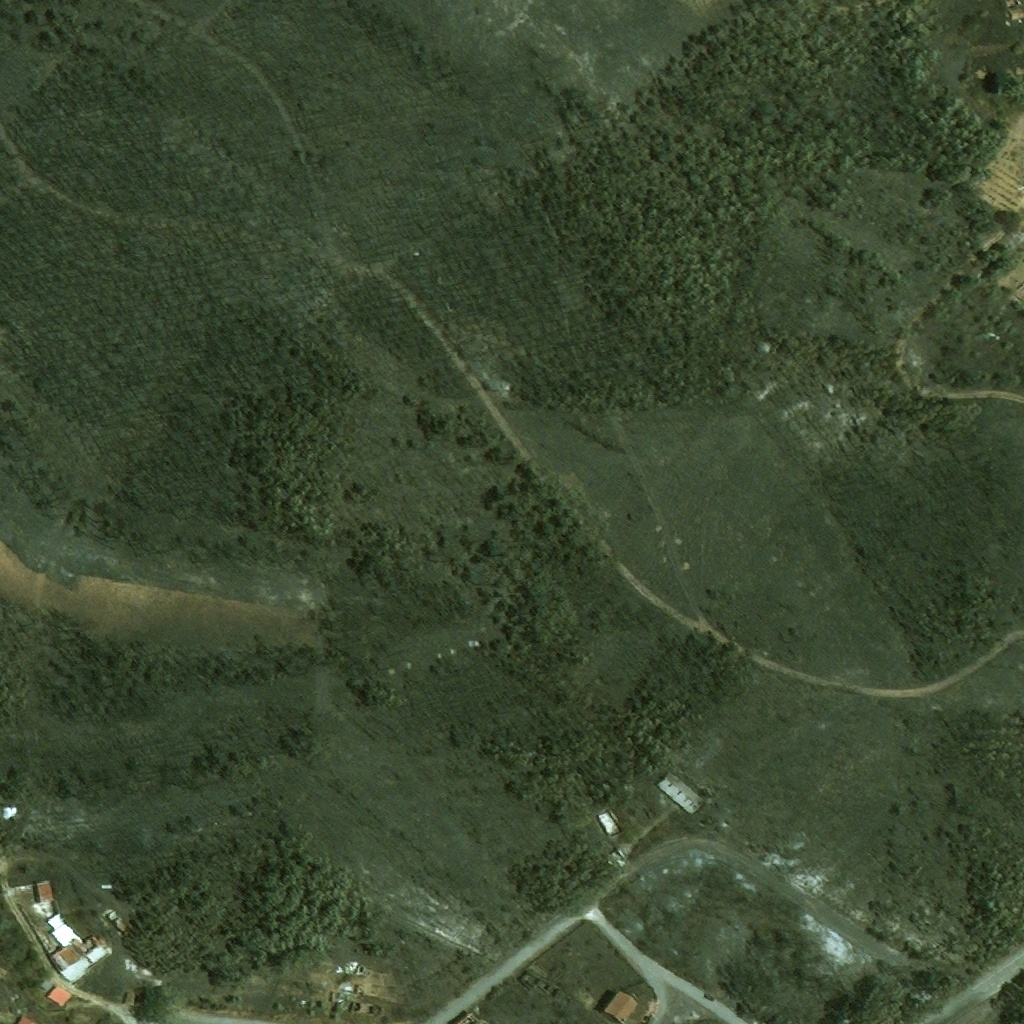0 no-damage: (602, 991, 639, 1023), (46, 915, 78, 946), (43, 986, 70, 1008), (33, 881, 54, 904)
1 minor-damage: (657, 773, 700, 813), (596, 810, 624, 840)
2 major-damage: (47, 936, 112, 983)
3 destroyed: (445, 1009, 479, 1023), (104, 907, 124, 928), (351, 1001, 383, 1014), (608, 846, 627, 866), (12, 883, 33, 898), (349, 962, 368, 975), (332, 991, 342, 1002), (0, 901, 9, 913), (356, 985, 366, 993)
4 un-classified: (1001, 0, 1023, 23), (1011, 283, 1023, 305)
